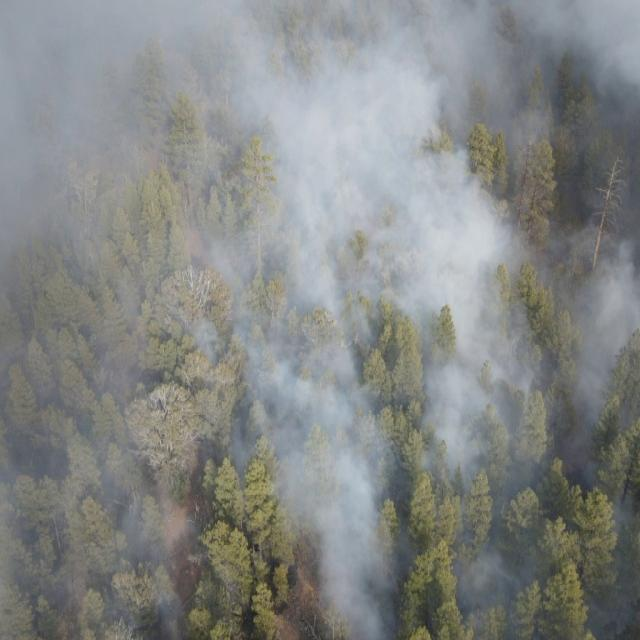smoke: (0, 0, 640, 309), (267, 459, 640, 640), (0, 310, 204, 640), (206, 311, 640, 455)
